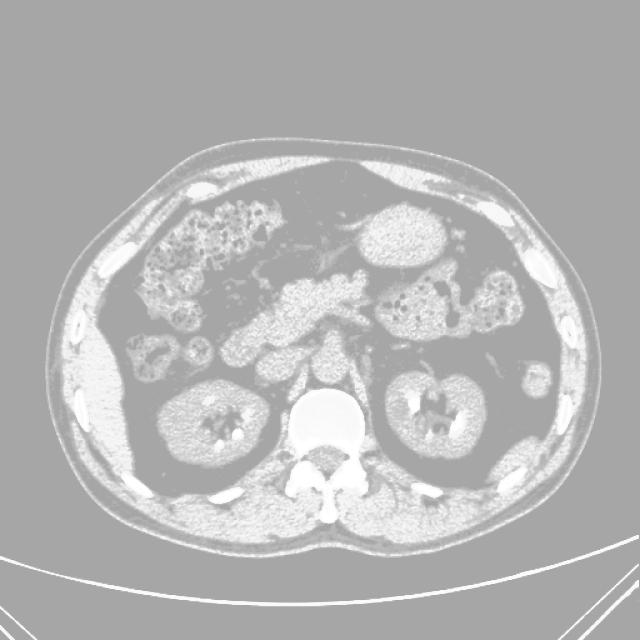STONE: (146, 339, 486, 478)
